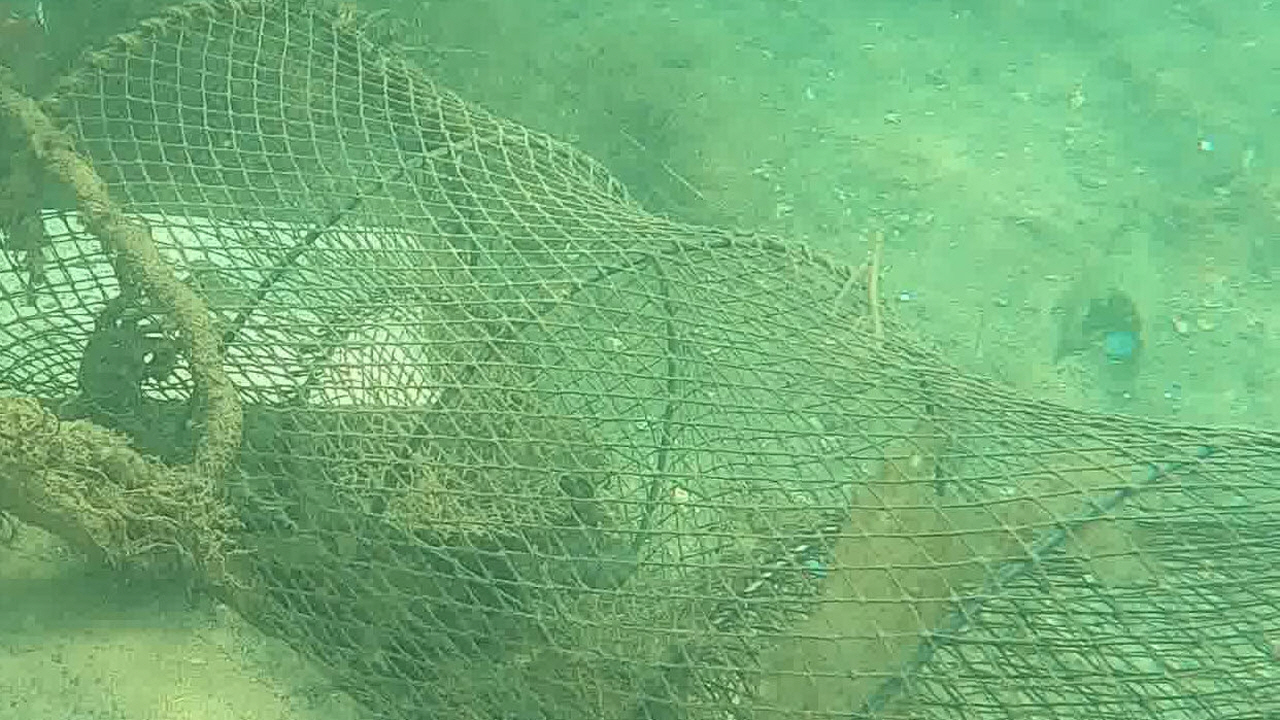spring fish trap: (1, 4, 1280, 720)
